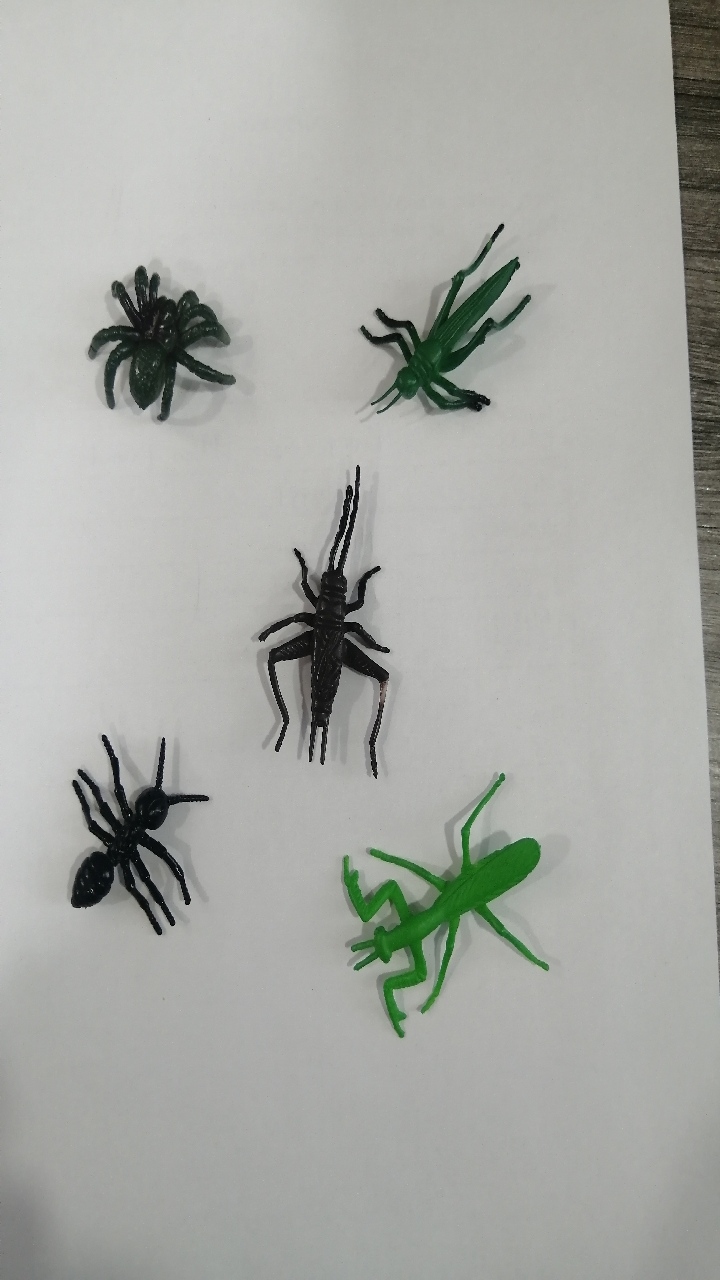intruso: (315, 752, 589, 1049), (20, 705, 238, 1000), (229, 460, 414, 792), (348, 189, 566, 455), (57, 225, 261, 455)
